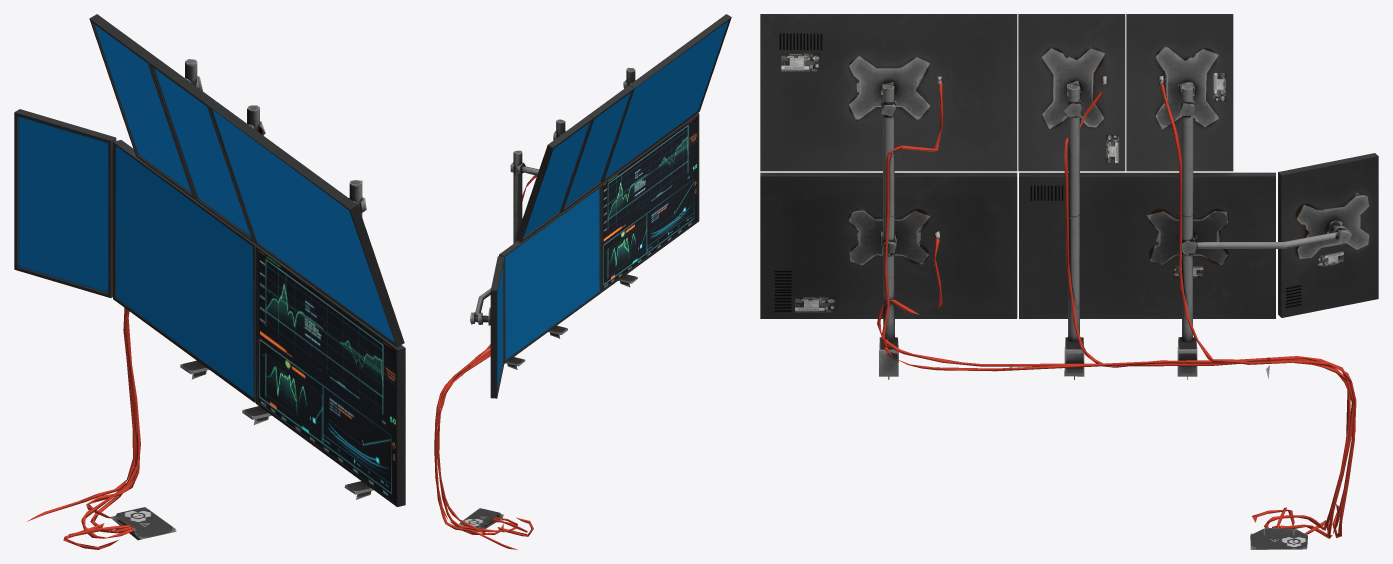
The model's file is SM_ScreensA01.gltf.
The picture shows the model from 3 angles, left to right: view 1: azimuth 30°, elevation 25°; view 2: azimuth 150°, elevation 25°; view 3: azimuth 270°, elevation 25°; orthographic projection. The views are drawn at different scales.
Visible parts, largest first — view 1: SM_ScreensA01; view 2: SM_ScreensA01; view 3: SM_ScreensA01.
Boxes of the visible parts, x1,y1,x2,y2 form: SM_ScreensA01: (14, 14, 405, 549); SM_ScreensA01: (434, 14, 731, 549); SM_ScreensA01: (760, 14, 1378, 549).
Size of the model in its own units: 0.5045 by 2.23 by 2.48.
Materials: 1 (1 with a texture image).
